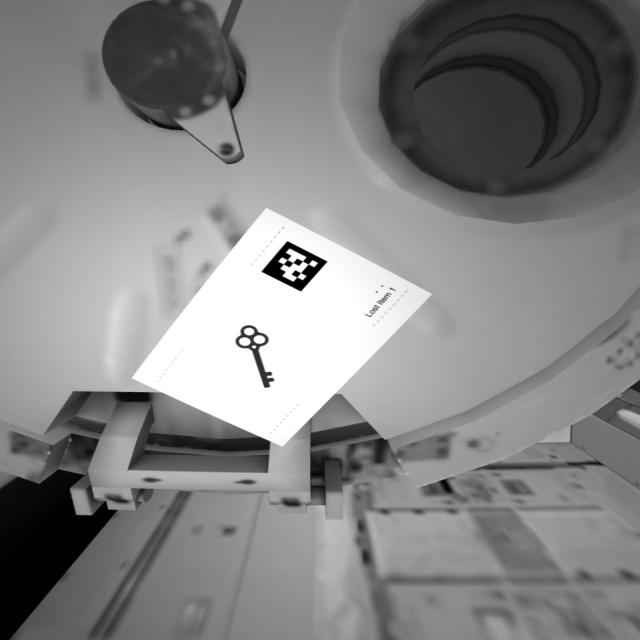key: (226, 322, 292, 402)
